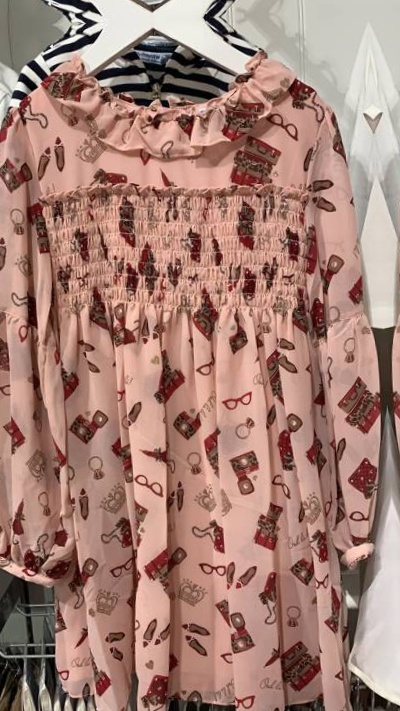Dress: (0, 46, 381, 711), (392, 25, 400, 705)
